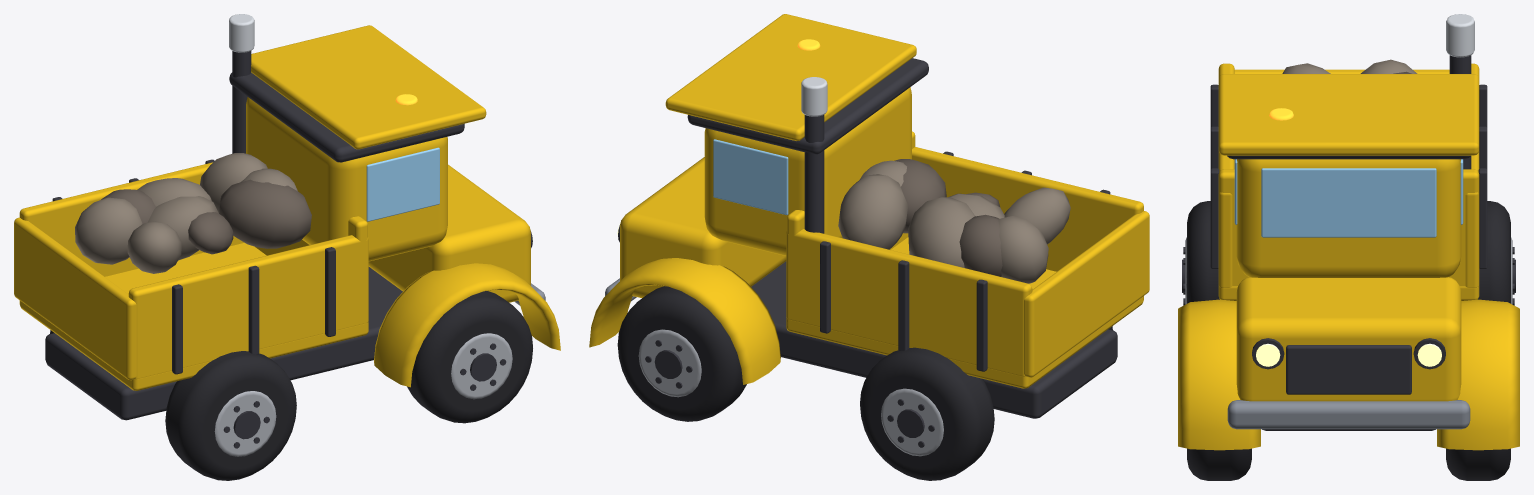
File: vehicle_debris_hauler.glb
3 renders of one model, left to right at view 1: azimuth 30°, elevation 25°; view 2: azimuth 150°, elevation 25°; view 3: azimuth 270°, elevation 25°, orthographic. The views are drawn at different scales.
Parts seen in each view (by area): view 1: Bed.Side, Bed.Canopy, Cab.Shell, Bed.Tailgate, WheelRR.Tyre, WheelFR.Tyre, Fender, Hood, Chassis, Bed.Floor, Bed.Load.Rock.003, Cab.SideWindow (+18 smaller); view 2: Bed.Side.001, Bed.Canopy, Cab.Shell, Bed.Tailgate, WheelRL.Tyre, WheelFL.Tyre, Fender.001, Hood, Chassis, Bed.Side, Cab.SideWindow.001, Cab.Roof (+17 smaller); view 3: Bed.Canopy, Hood, Cab.Shell, Cab.Windshield, Fender, Fender.001, Bumper, Grille, WheelRL.Tyre, WheelRR.Tyre, Bed.Headboard, WheelFL.Tyre (+15 smaller).
Part boxes in pixels (x1,y1,x2,y2): Bed.Side: (128, 235, 368, 379); Bed.Canopy: (251, 25, 486, 149); Cab.Shell: (246, 97, 447, 261); Bed.Tailgate: (14, 217, 136, 380); WheelRR.Tyre: (165, 351, 296, 480); WheelFR.Tyre: (407, 291, 532, 423); Fender: (374, 263, 560, 387); Hood: (368, 164, 530, 302); Chassis: (45, 267, 402, 420); Bed.Floor: (19, 242, 368, 390); Bed.Load.Rock.003: (219, 179, 311, 248); Cab.SideWindow: (366, 147, 439, 221); Bed.Side.001: (786, 229, 1032, 376); Bed.Canopy: (665, 14, 916, 140); Cab.Shell: (704, 87, 911, 255); Bed.Tailgate: (1024, 211, 1149, 377); WheelRL.Tyre: (860, 347, 994, 480); WheelFL.Tyre: (617, 286, 746, 421); Fender.001: (589, 258, 780, 384); Hood: (620, 157, 786, 298); Chassis: (751, 261, 1117, 418); Bed.Side: (912, 147, 1143, 271); Cab.SideWindow.001: (713, 139, 788, 215); Cab.Roof: (687, 58, 928, 154); Bed.Canopy: (1218, 74, 1479, 155); Hood: (1236, 277, 1461, 401); Cab.Shell: (1236, 159, 1461, 277); Cab.Windshield: (1261, 168, 1436, 237); Fender: (1178, 299, 1260, 450); Fender.001: (1437, 299, 1519, 450); Bumper: (1227, 400, 1470, 429); Grille: (1286, 345, 1411, 394); WheelRL.Tyre: (1478, 201, 1510, 303); WheelRR.Tyre: (1187, 201, 1219, 303); Bed.Headboard: (1218, 169, 1479, 286); WheelFL.Tyre: (1446, 448, 1510, 480).
Size of the model in its own units: 3.05 by 2.4 by 1.9.
